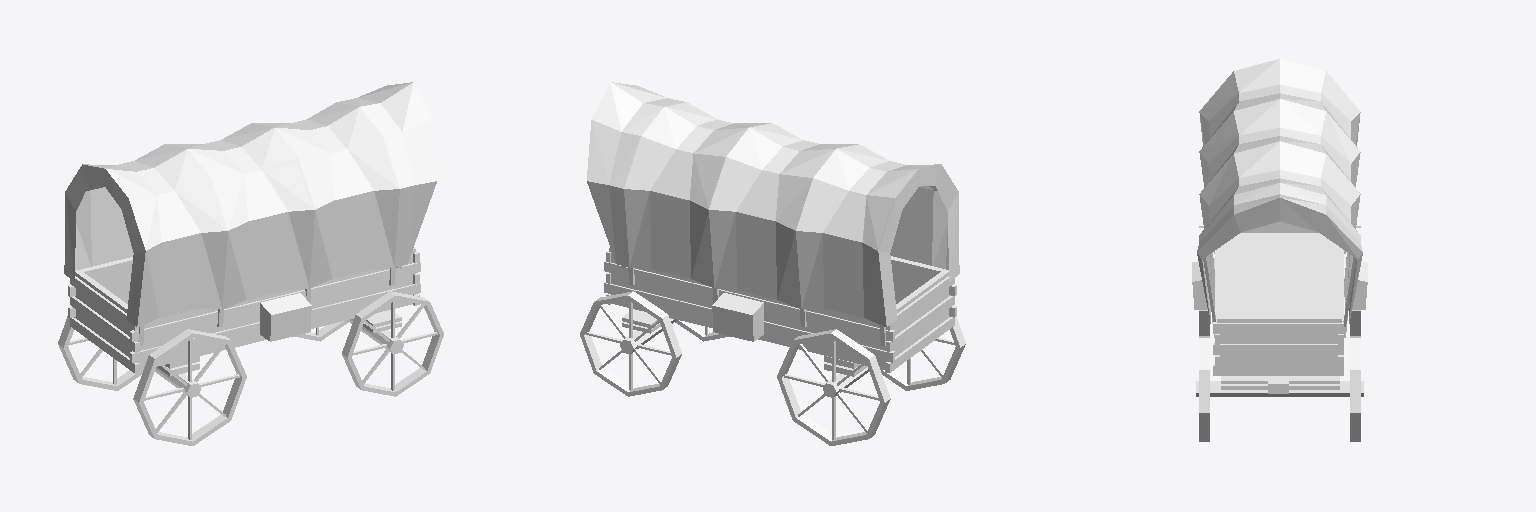
The model's file is Wegon.obj.
3 renders of one model, left to right at view 1: azimuth 30°, elevation 25°; view 2: azimuth 150°, elevation 25°; view 3: azimuth 270°, elevation 25°, orthographic.
Parts seen in each view (by area): view 1: Western_Wagon Roof, Western_Wagon; view 2: Western_Wagon Roof, Western_Wagon; view 3: Western_Wagon, Western_Wagon Roof.
Boxes of the visible parts, <box> form: Western_Wagon Roof: <box>64,82,436,326</box>; Western_Wagon: <box>58,233,443,445</box>; Western_Wagon Roof: <box>587,82,959,326</box>; Western_Wagon: <box>580,234,965,445</box>; Western_Wagon: <box>1192,222,1367,441</box>; Western_Wagon Roof: <box>1197,59,1362,323</box>.
Bounding box in the file's own units: 35.06 × 28.79 × 16.9.